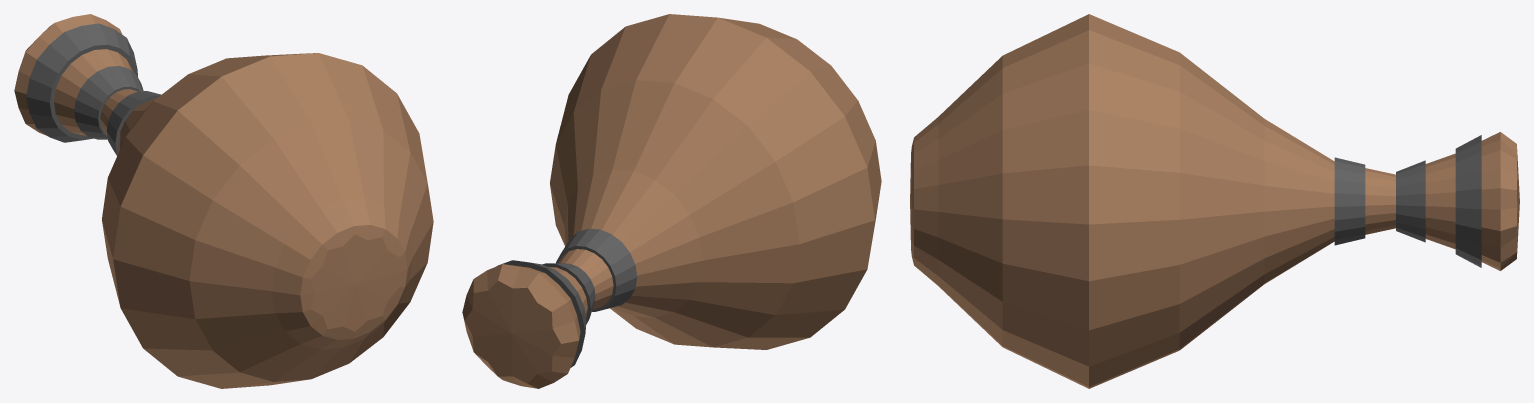
File: Pottery1.fbx
The picture shows the model from 3 angles, left to right: view 1: azimuth 30°, elevation 25°; view 2: azimuth 150°, elevation 25°; view 3: azimuth 270°, elevation 25°; orthographic projection. The views are drawn at different scales.
Visible parts, largest first — view 1: Pottery1; view 2: Pottery1; view 3: Pottery1.
Part boxes in pixels (x1,y1,x2,y2): Pottery1: (14,14,433,388); Pottery1: (462,14,881,388); Pottery1: (910,14,1519,388).
Bounding box in the file's own units: 123 × 124 × 199.
